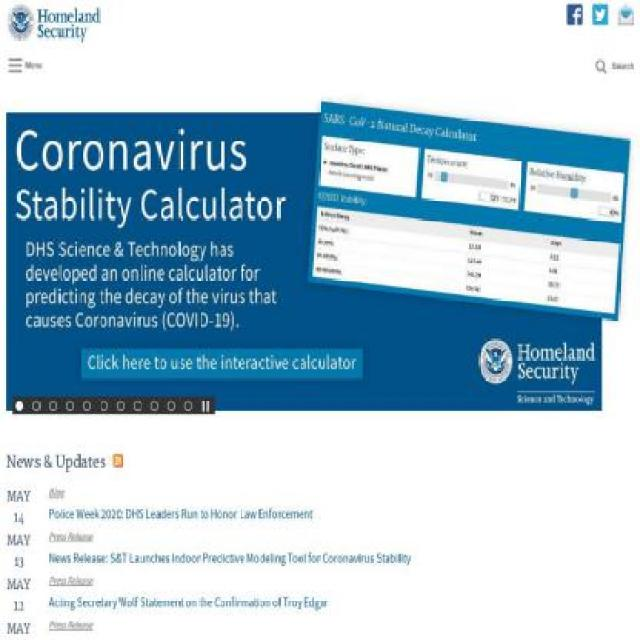button: (6, 4, 100, 45), (592, 4, 608, 30), (618, 4, 634, 30), (567, 4, 582, 30), (12, 395, 30, 414), (130, 395, 148, 414), (164, 395, 182, 414), (198, 395, 216, 414), (29, 395, 46, 414), (46, 395, 63, 414), (63, 395, 80, 414), (80, 395, 97, 414), (97, 395, 114, 414), (114, 395, 131, 414), (148, 395, 164, 414), (182, 395, 198, 414)
field: (592, 55, 634, 79)
